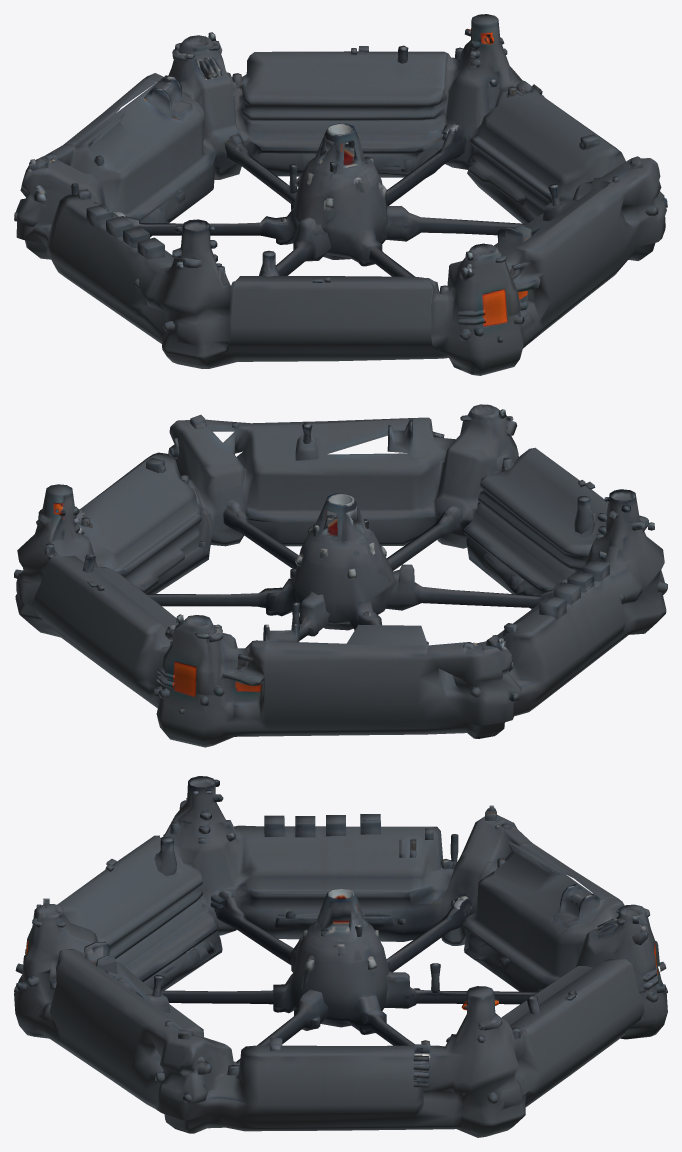
File: ring3t.glb
The picture shows the model from 3 angles, top to bottom: view 1: azimuth 30°, elevation 25°; view 2: azimuth 150°, elevation 25°; view 3: azimuth 270°, elevation 25°; orthographic projection.
Visible parts, largest first — view 1: c2f51d8d_a009_4c05_ae77_7a4a885c8864; view 2: c2f51d8d_a009_4c05_ae77_7a4a885c8864; view 3: c2f51d8d_a009_4c05_ae77_7a4a885c8864.
Part boxes in pixels (<box>): c2f51d8d_a009_4c05_ae77_7a4a885c8864: <box>14,14,667,375</box>; c2f51d8d_a009_4c05_ae77_7a4a885c8864: <box>14,404,667,747</box>; c2f51d8d_a009_4c05_ae77_7a4a885c8864: <box>14,776,667,1137</box>.
Size of the model in its own units: 0.9048 by 0.2371 by 0.9995.
Materials: 1 (1 with a texture image).
